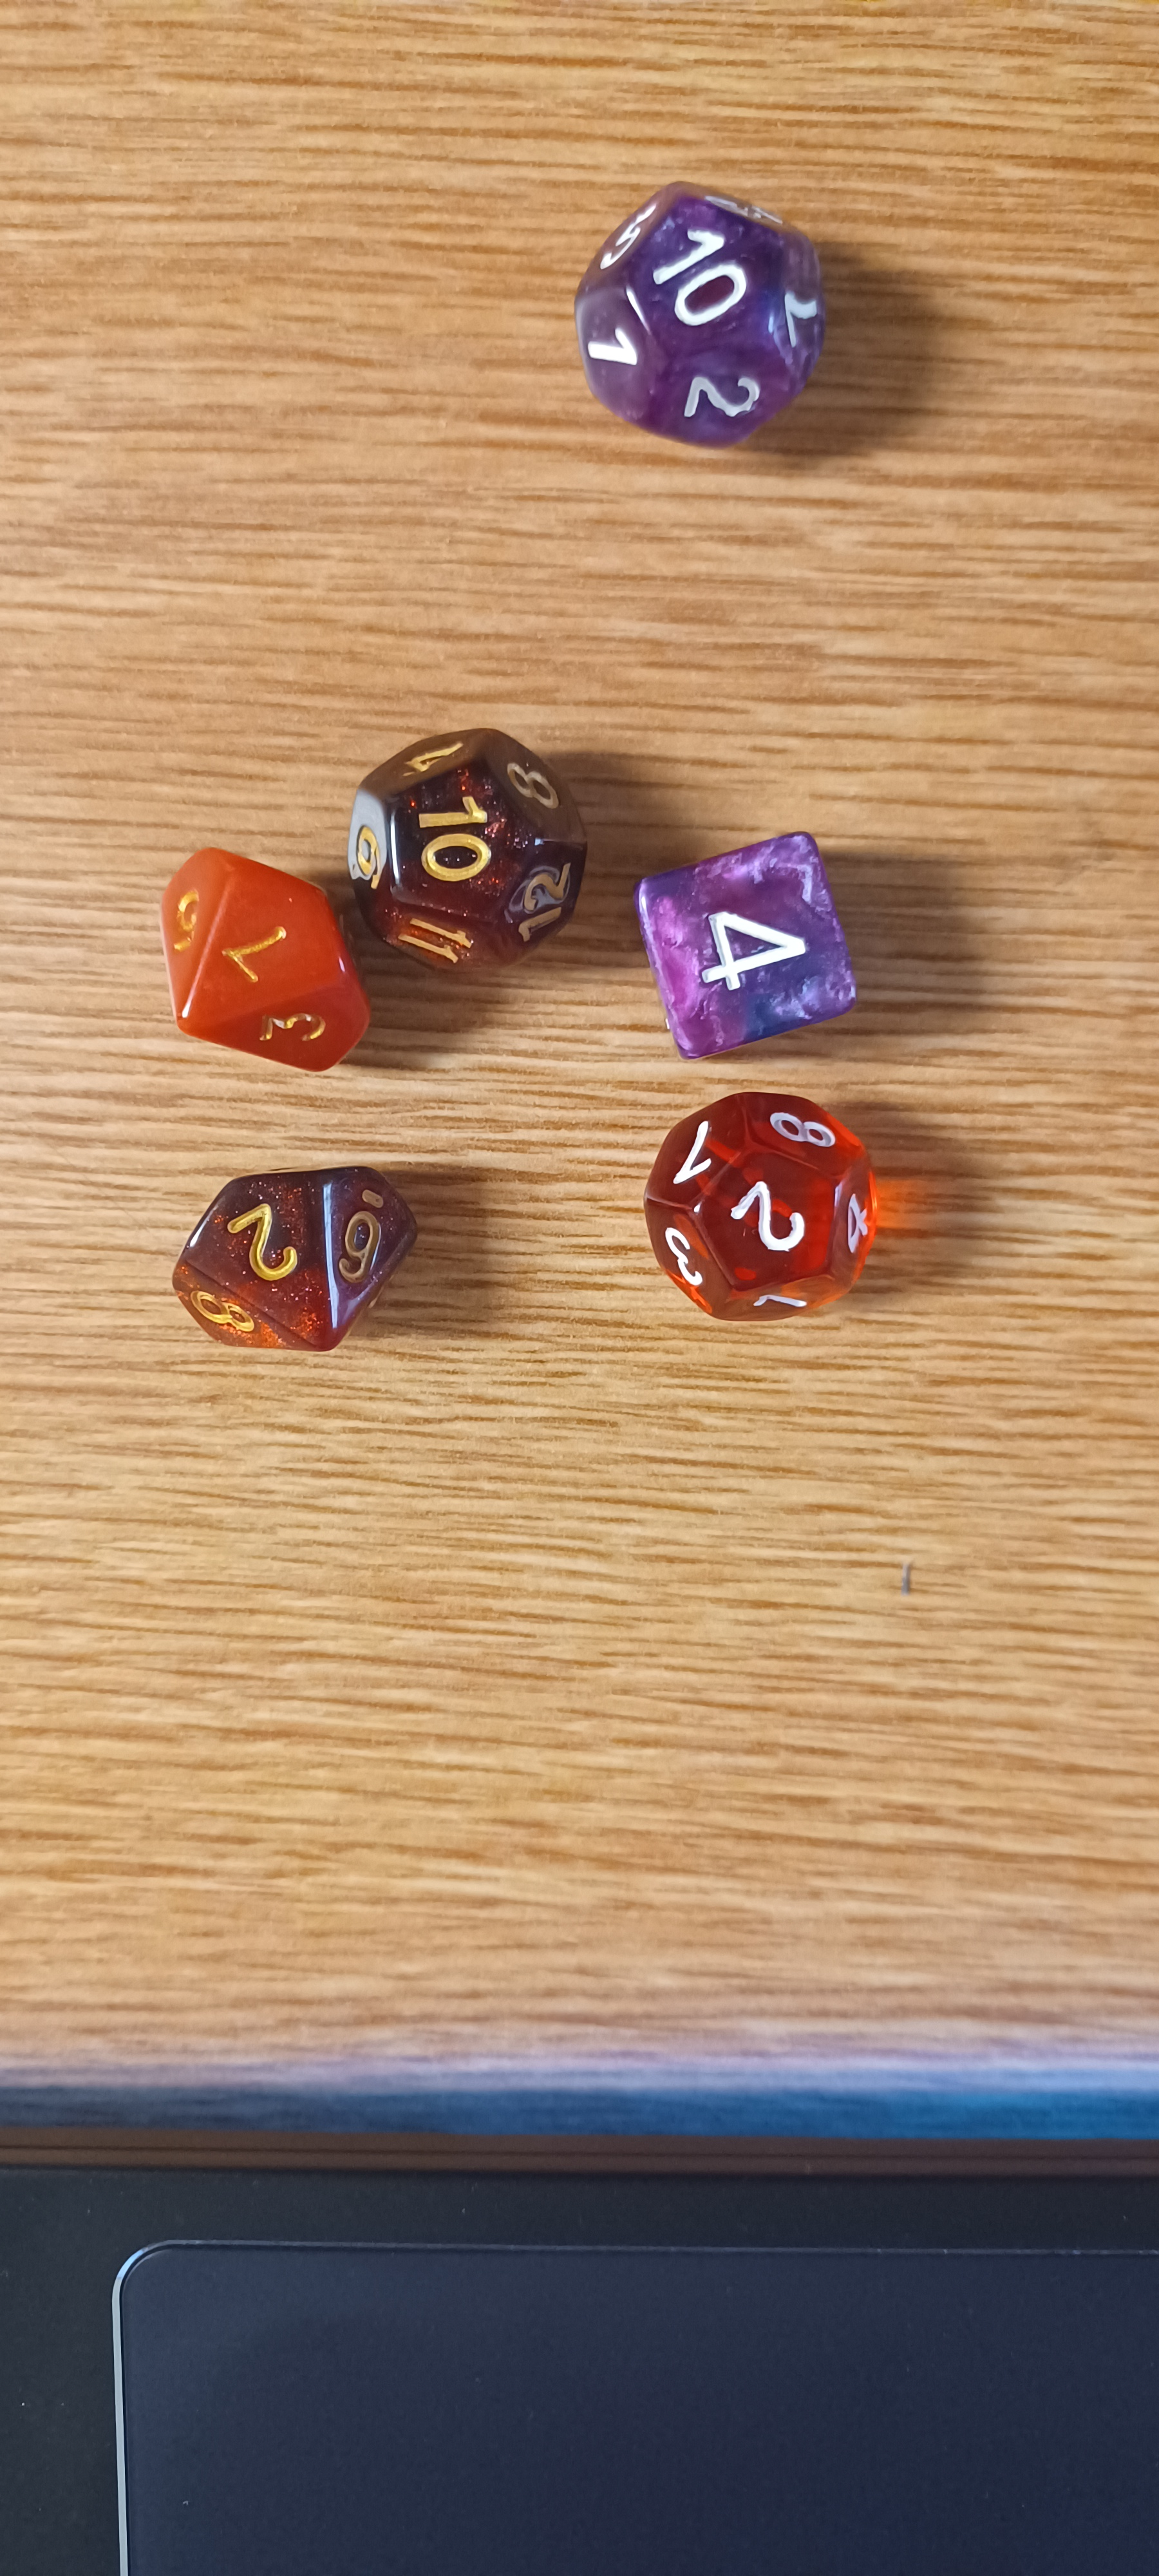four: (629, 800, 886, 1058)
seven: (125, 820, 391, 1101)
ten: (542, 159, 872, 475), (315, 705, 606, 986)
two: (146, 1122, 443, 1388), (634, 1079, 911, 1332)
